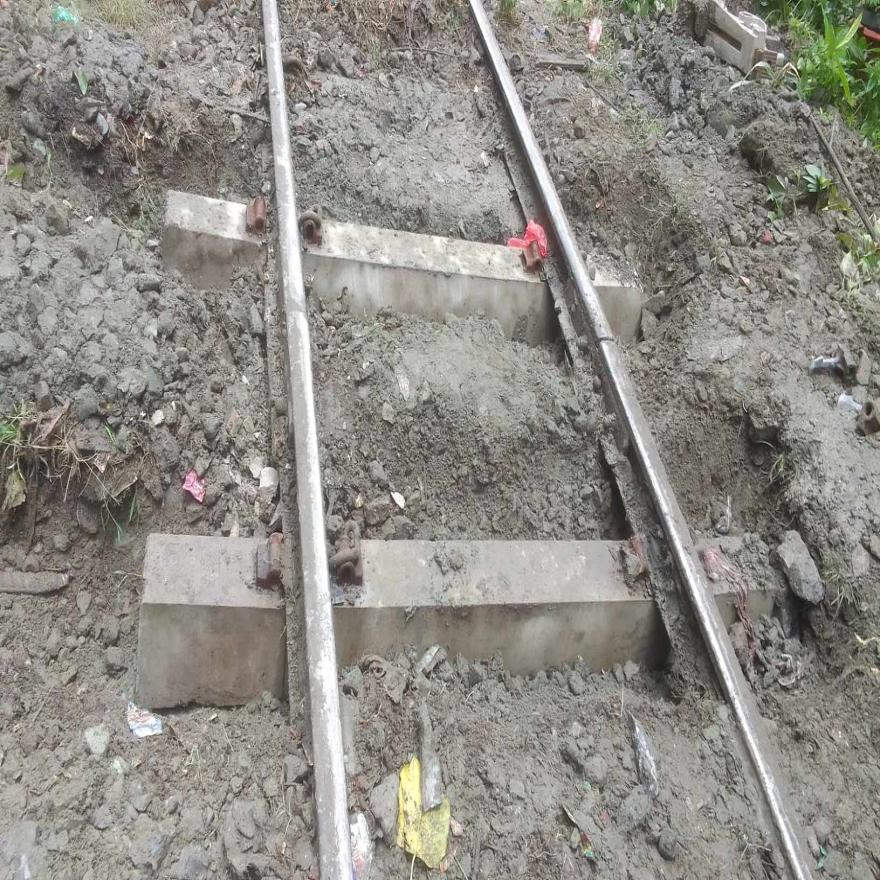railway-gap: (575, 291, 629, 390)
